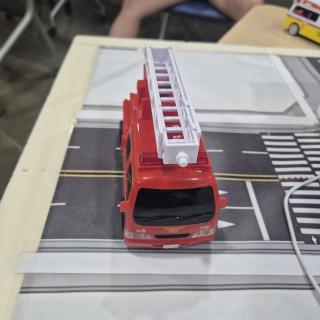Fire_truck: (120, 45, 227, 248)
